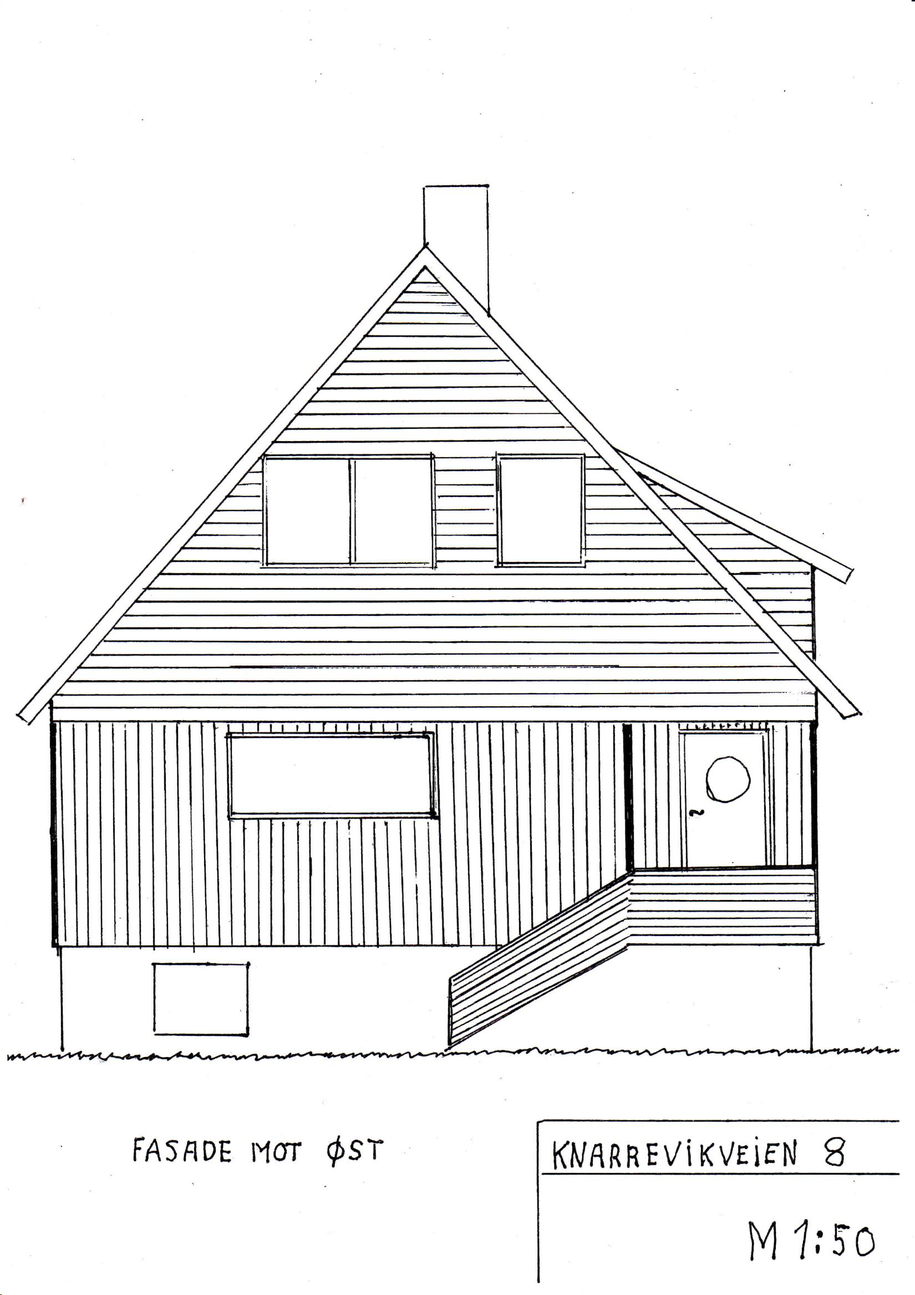fasade: (13, 173, 861, 1068)
